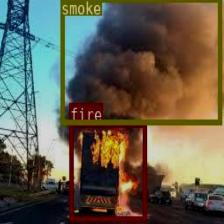fire: (69, 121, 146, 220)
smoke: (60, 0, 221, 124)
